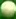white: (0, 0, 16, 19)
